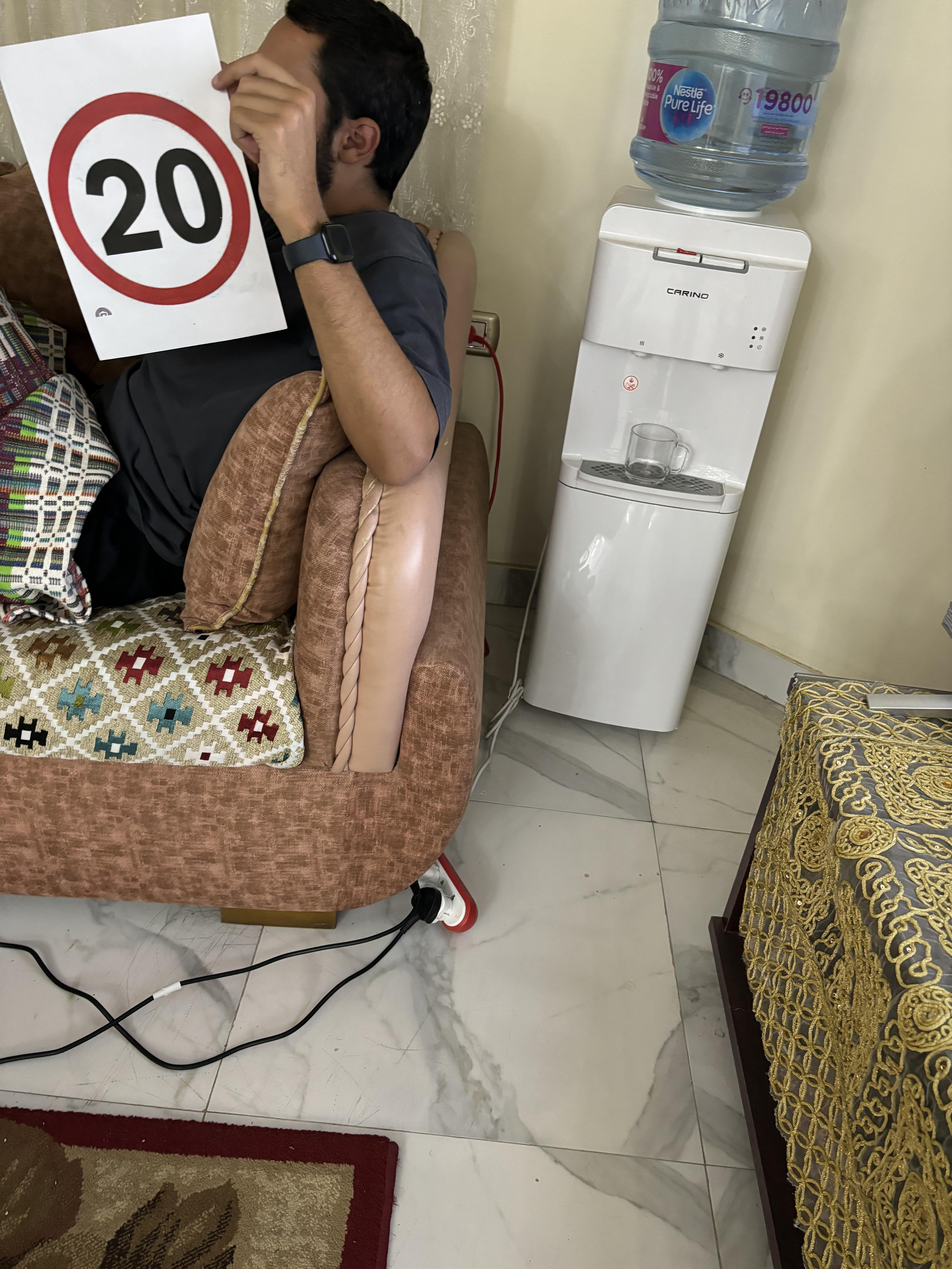20-Speed: (47, 85, 252, 307)
